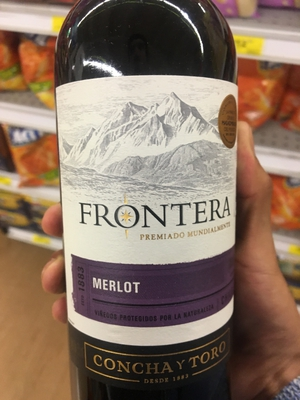frontera merlot: (53, 1, 254, 400)
